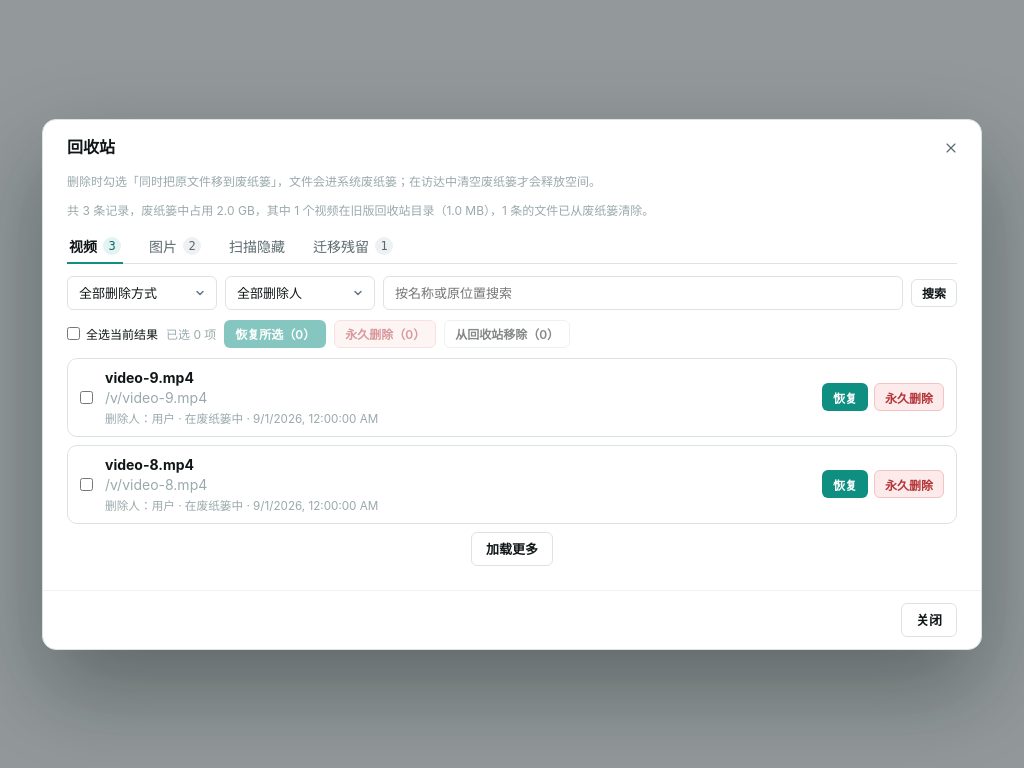
Test: LIB-05 回收站中心：列表、分页与用量 › 打开即按页签分页读取，并显示废纸篓占用与「在访达中清空才会释放空间」
The width and height of the screenshot is (1024, 768).
Expected: the text with test id "trash-usage" shows "废纸篓中占用 2.0 GB", [67,202,654,218]
Expected: the text with test id "trash-usage" shows "旧版回收站目录", [67,202,654,218]
Click the tab with test id "trash-tab-staged" at (353, 246), box [311,230,395,264]
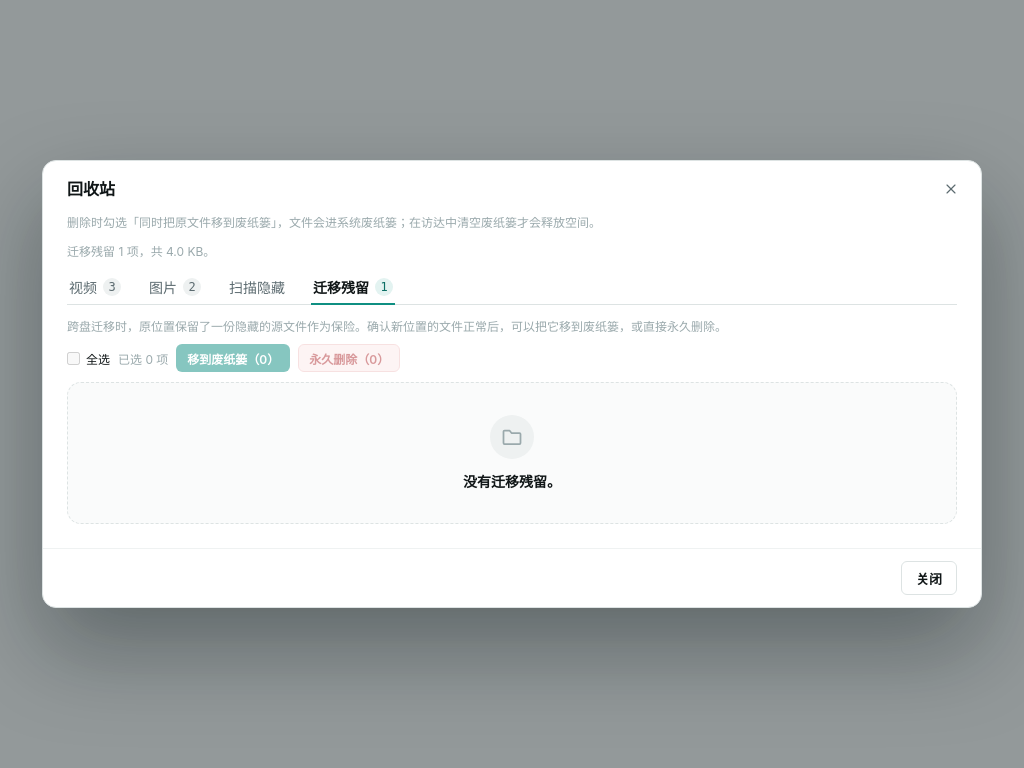
Result: the tab with test id "trash-tab-staged" is selected at [311,271,395,305]
Click the tab with test id "trash-tab-video" at (95, 288), box [67,271,123,305]
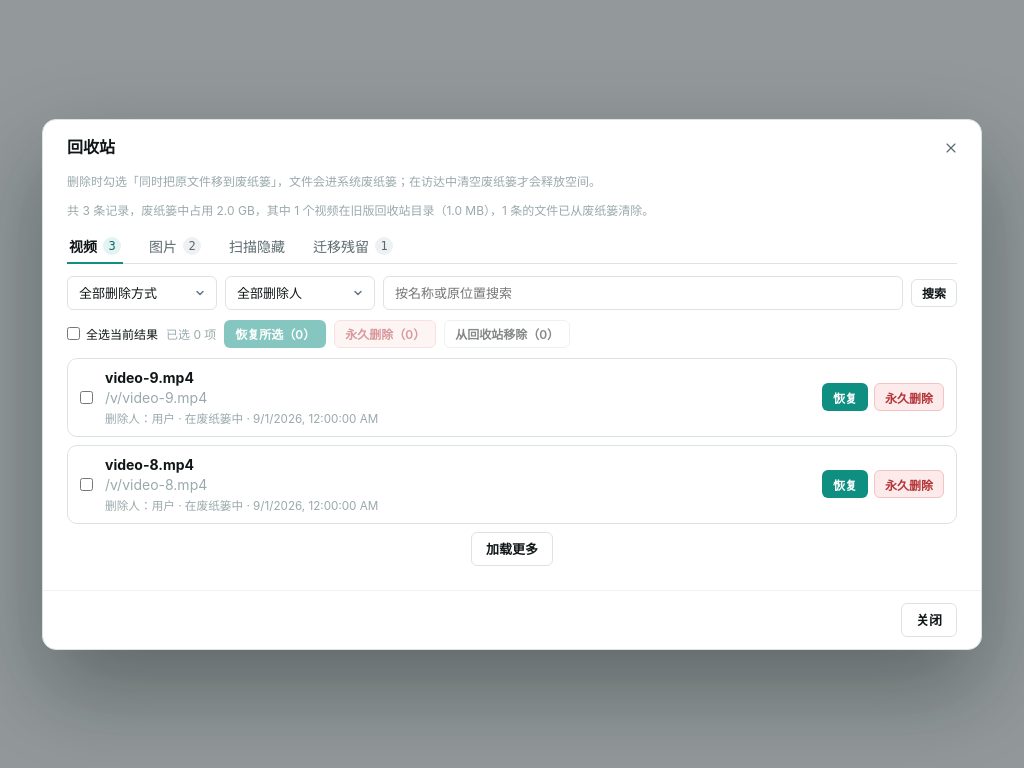
Click the button with test id "trash-load-more" at (512, 548), box [471,532,553,566]
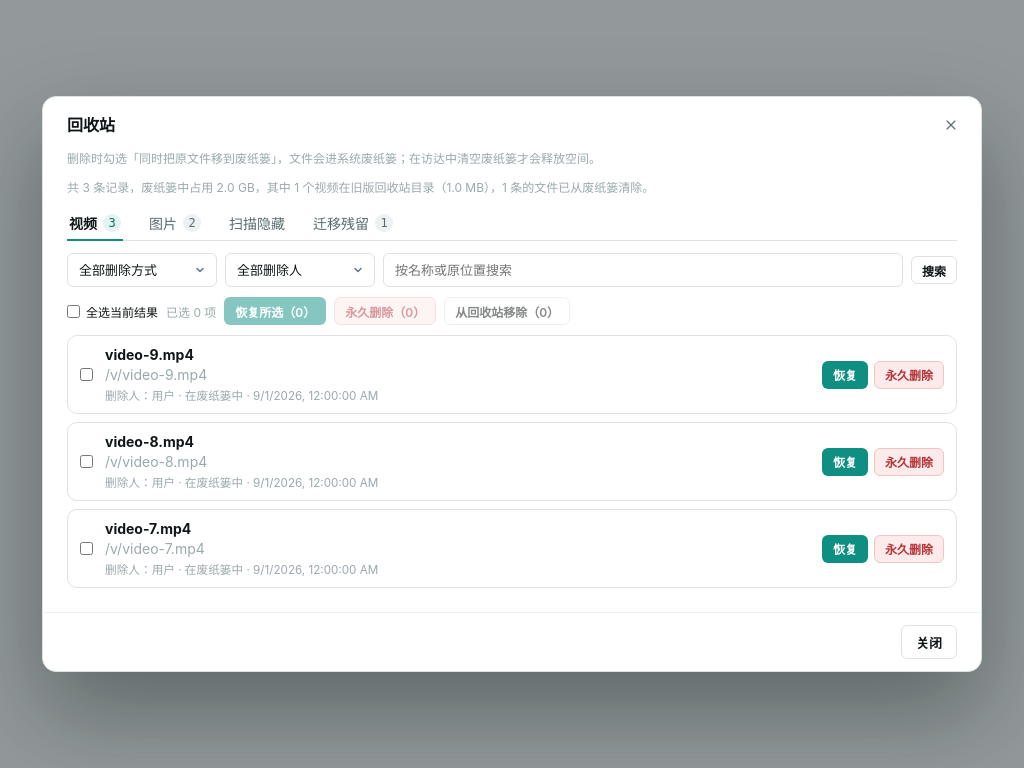
Result: the number of elements with class "trash-center-entry" is 3 at [67,335,957,414]; [67,422,957,501]; [67,509,957,588]
